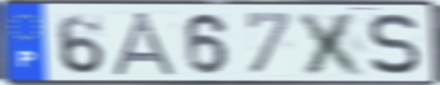6: (54, 11, 106, 76), (183, 11, 230, 76)
7: (244, 10, 294, 77)
A: (108, 10, 183, 78)
S: (366, 11, 423, 77)
X: (294, 10, 370, 77)
